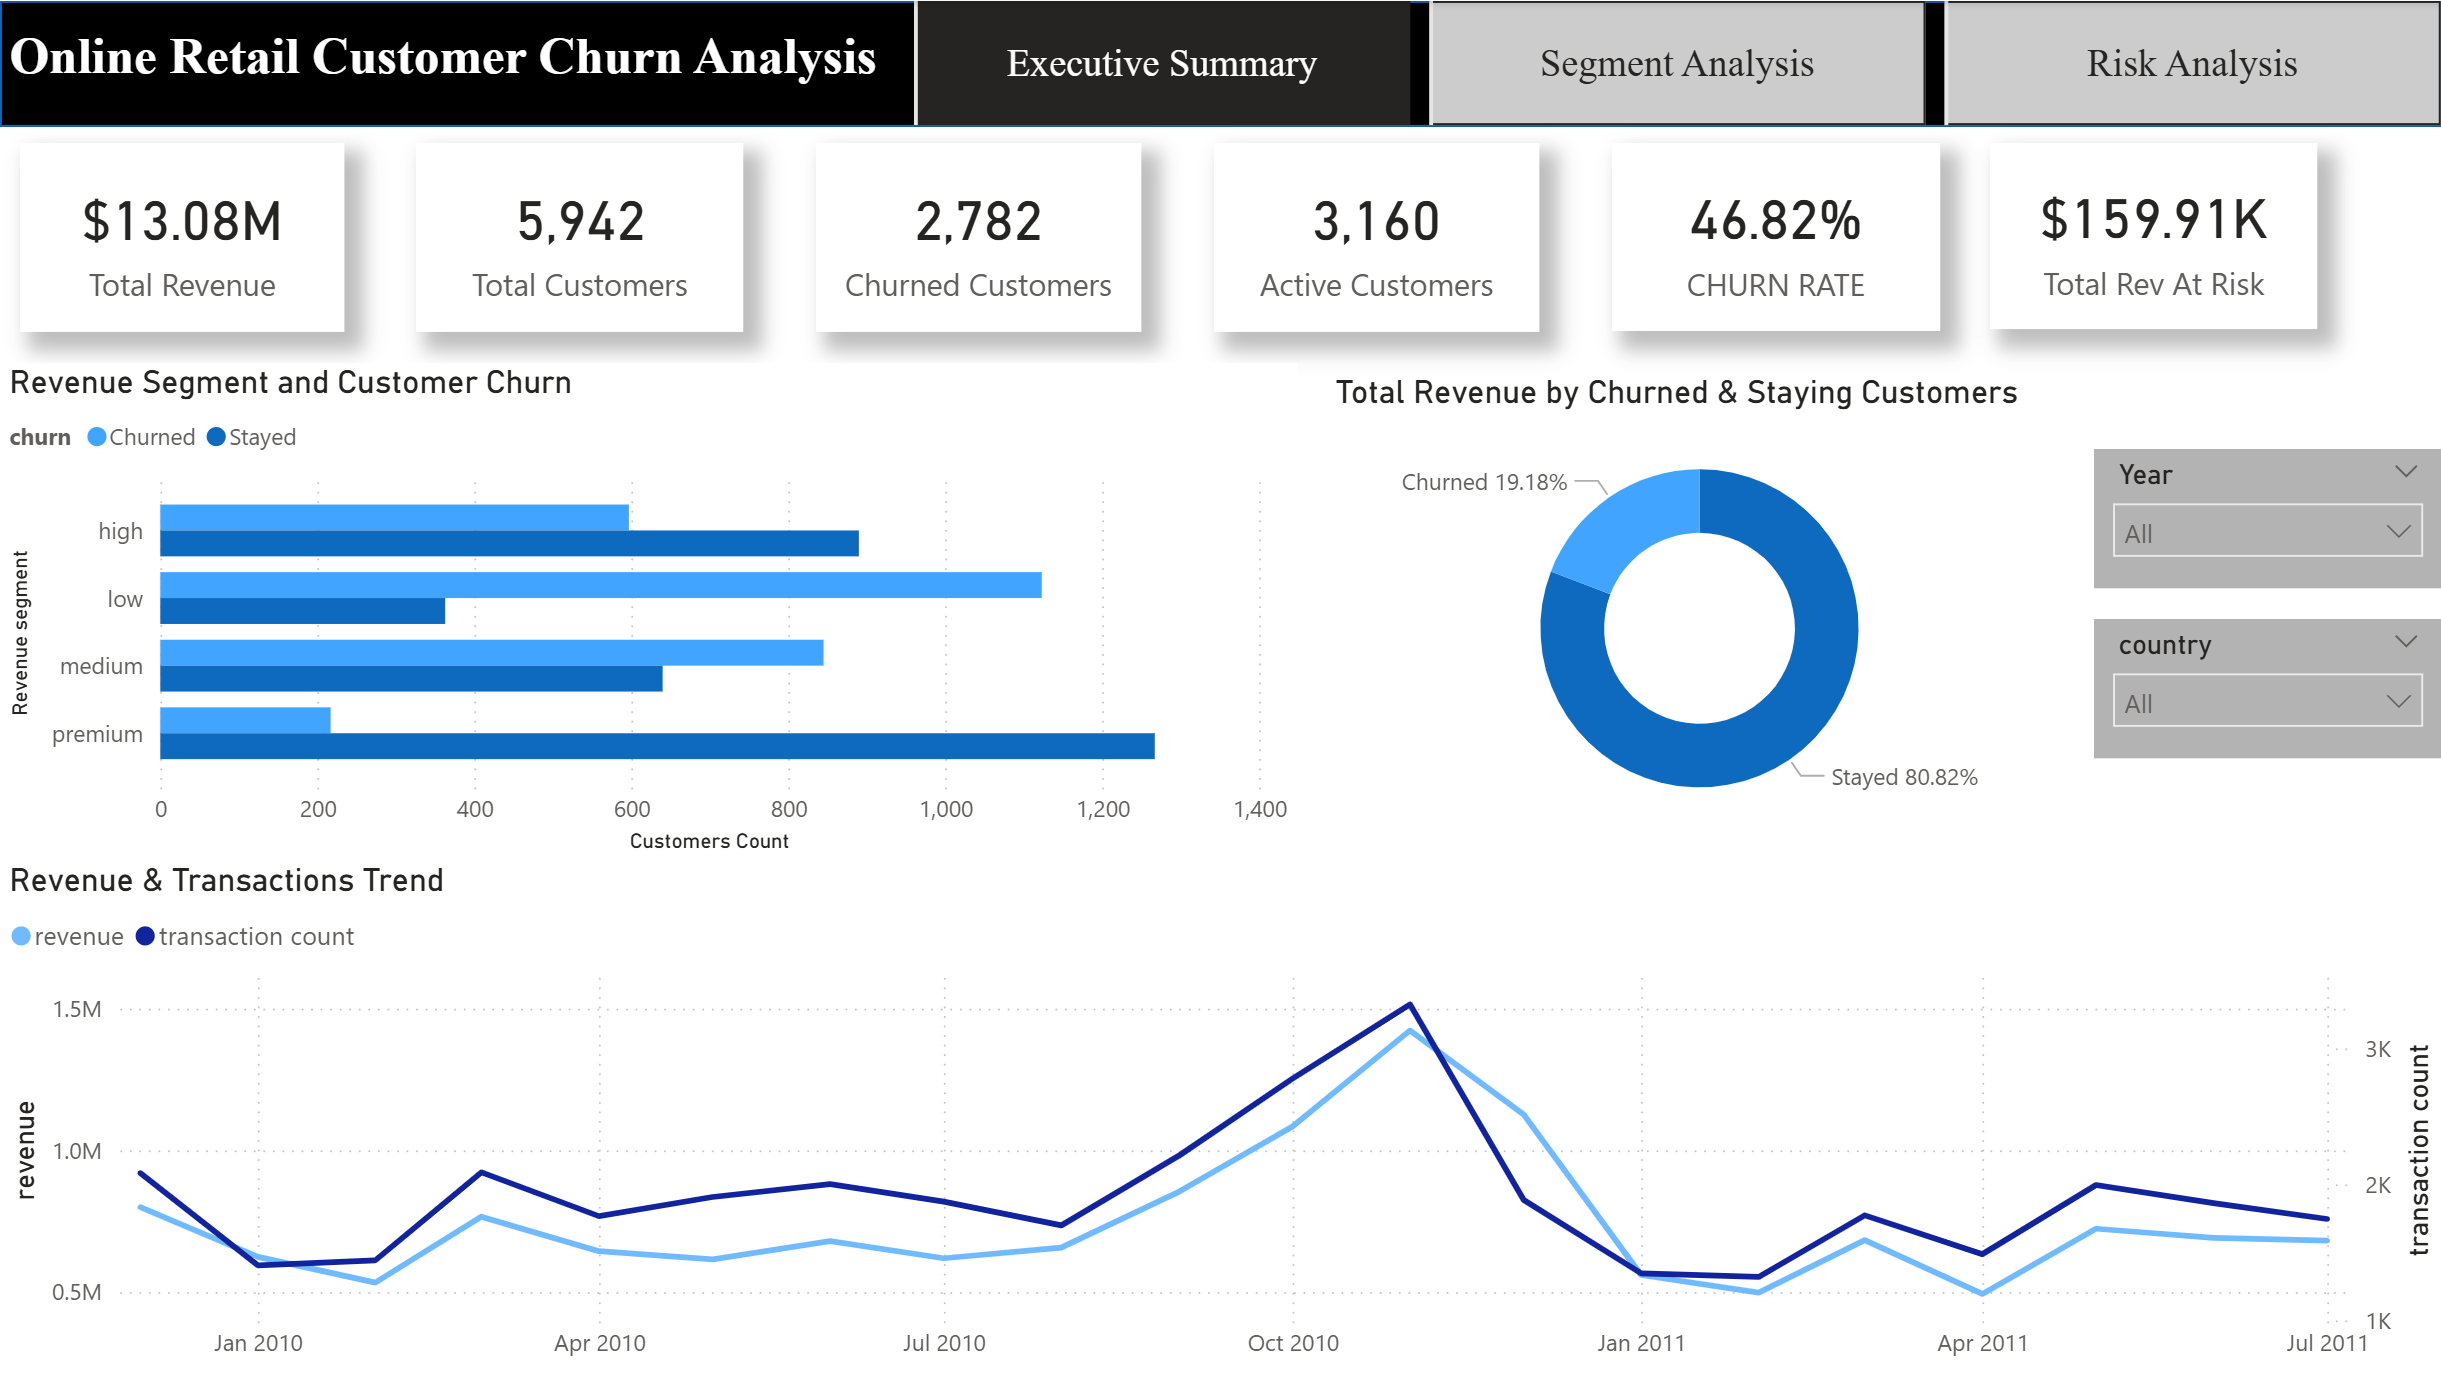

Layout of this report page (visuals, bound fields, positions):
{"tool":"powerbi","page":{"name":"Executive Summary","canvas":[1280,720],"ordinal":0},"visuals":[{"type":"shape","box":[0,0,1280,65.9],"z":0},{"type":"textbox","box":[0,8.2,479.3,46.7],"z":1000},{"type":"pageNavigator","box":[479.3,0,800.7,65.9],"z":2000},{"type":"card","fields":{"Values":["online_retail_churn_final.Total_customers"]},"box":[218.1,74.5,171.7,98.9],"z":3000},{"type":"card","fields":{"Values":["online_retail_churn_final.Total Revenue"]},"box":[10.1,74.5,170,98.9],"z":4000},{"type":"card","fields":{"Values":["online_retail_churn_final.CHURN RATE"]},"box":[844.3,74.6,171.8,98.3],"z":5000},{"type":"card","fields":{"Values":["online_retail_churn_final.Active Customers"]},"box":[636,74.5,170.3,98.9],"z":6000},{"type":"card","fields":{"Values":["online_retail_churn_final.total_churn"]},"box":[427.8,74.5,170.3,98.9],"z":7000},{"type":"clusteredBarChart","title":"Revenue Segment and Customer Churn","fields":{"Y":["CountNonNull(online_retail_churn_final.customer_id)"],"Series":["online_retail_churn_final.churn_c"],"Category":["online_retail_churn_final.rev_seg"]},"box":[0,189.5,679.8,260.9],"z":8000},{"type":"lineChart","title":"Revenue & Transactions Trend","fields":{"Category":["dates.Date.Variation.Date Hierarchy.Year","dates.Date.Variation.Date Hierarchy.Month"],"Y":["Sum(monthly_rev_churn.revenue)"],"Y2":["Sum(monthly_rev_churn.transaction_count)"]},"box":[0,450.5,1280,270.6],"z":9000},{"type":"slicer","fields":{"Values":["dates.Year"]},"box":[1097.3,234.8,182.7,72.8],"z":10000},{"type":"slicer","fields":{"Values":["monthly_rev_churn.country"]},"box":[1097.3,324.1,182.7,72.8],"z":11000},{"type":"donutChart","title":"Total Revenue by Churned & Staying Customers","fields":{"Y":["online_retail_churn_final.Total Revenue"],"Category":["online_retail_churn_final.churn_c"]},"box":[694.9,195,391.4,248.6],"z":12000},{"type":"card","fields":{"Values":["online_retail_churn_final.Rev At Risk"]},"box":[1042.4,74.2,171.7,97.5],"z":13000}]}

Visuals, with their boxes in screenshot pixels (x1, y1, x2, y2), scaled from the page's 1280x720 canvas onto the 2441x1375 screenshot:
shape: 0, 0, 2440, 126
textbox: 0, 16, 914, 105
pageNavigator: 914, 0, 2440, 126
card - online_retail_churn_final.Total_customers: 416, 142, 743, 331
card - online_retail_churn_final.Total Revenue: 19, 142, 343, 331
card - online_retail_churn_final.CHURN RATE: 1610, 142, 1938, 330
card - online_retail_churn_final.Active Customers: 1213, 142, 1538, 331
card - online_retail_churn_final.total_churn: 816, 142, 1141, 331
"Revenue Segment and Customer Churn" clusteredBarChart: 0, 362, 1296, 860
"Revenue & Transactions Trend" lineChart: 0, 860, 2440, 1374
slicer - dates.Year: 2093, 448, 2440, 587
slicer - monthly_rev_churn.country: 2093, 619, 2440, 758
"Total Revenue by Churned & Staying Customers" donutChart: 1325, 372, 2072, 847
card - online_retail_churn_final.Rev At Risk: 1988, 142, 2315, 328
